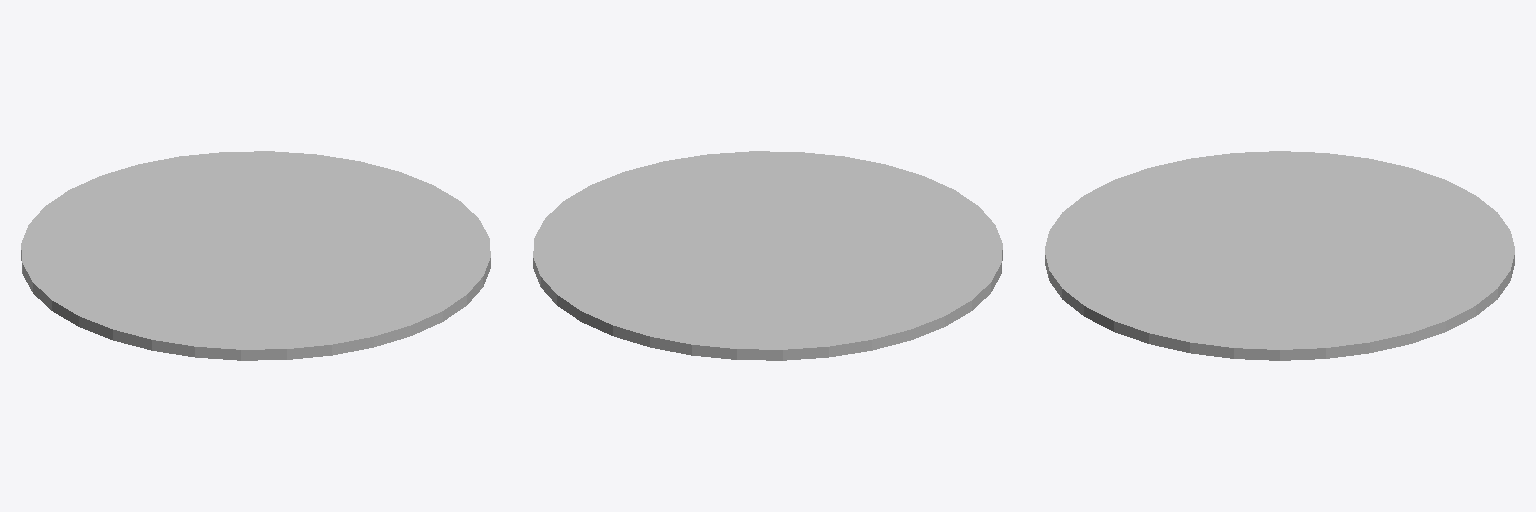
File: Ligth_plane.obj
3 renders of one model, left to right at view 1: azimuth 30°, elevation 25°; view 2: azimuth 150°, elevation 25°; view 3: azimuth 270°, elevation 25°, orthographic.
Visible parts, largest first — view 1: Cylinder; view 2: Cylinder; view 3: Cylinder.
Boxes of the visible parts, x1=… form: Cylinder: x1=21, y1=151, x2=490, y2=360; Cylinder: x1=533, y1=151, x2=1002, y2=360; Cylinder: x1=1045, y1=151, x2=1514, y2=360.
Bounding box in the file's own units: 2 × 0.0511 × 2.